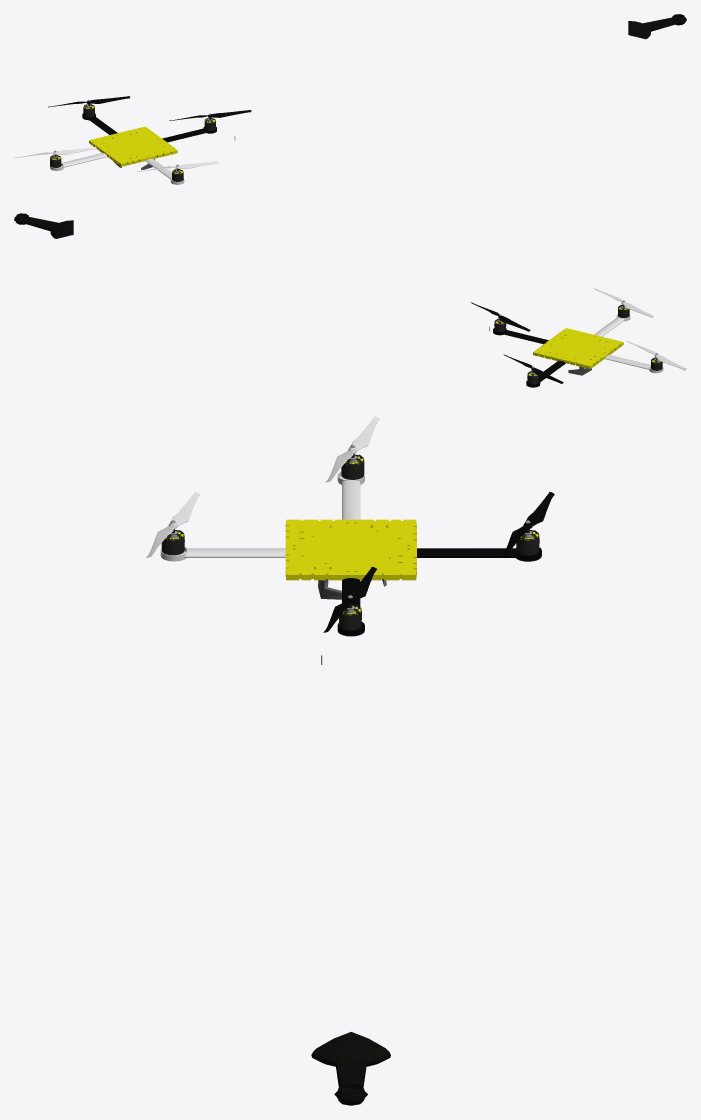
The model's file is uav8.fbx.
3 views of the same model, one above another, from view 1: azimuth 30°, elevation 25°; view 2: azimuth 150°, elevation 25°; view 3: azimuth 270°, elevation 25° (orthographic). The views are drawn at different scales.
Visible parts, largest first — view 1: pCube56, pCylinder9, pCylinder115, pCylinder116; view 2: pCube56, pCylinder9, pCylinder115, pCylinder116; view 3: pCube56, pCylinder9, pCylinder114, pCylinder117.
Part boxes in pixels (left/top/right/bottom): pCube56: left=89, top=126, right=177, bottom=166; pCylinder9: left=628, top=14, right=686, bottom=39; pCylinder115: left=50, top=153, right=107, bottom=170; pCylinder116: left=162, top=126, right=216, bottom=142; pCube56: left=533, top=328, right=623, bottom=368; pCylinder9: left=14, top=213, right=73, bottom=238; pCylinder115: left=605, top=355, right=663, bottom=373; pCylinder116: left=493, top=328, right=548, bottom=344; pCube56: left=285, top=519, right=416, bottom=580; pCylinder9: left=311, top=1032, right=390, bottom=1105; pCylinder114: left=160, top=547, right=285, bottom=561; pCylinder117: left=417, top=547, right=541, bottom=561.
Bounding box in the file's own units: 145 × 6.77 × 38.53.
